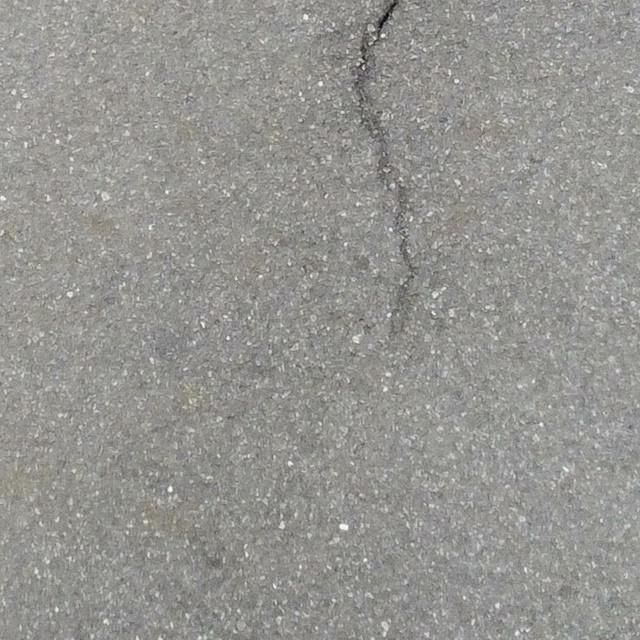LongitudinalCrack: (351, 1, 421, 326)
